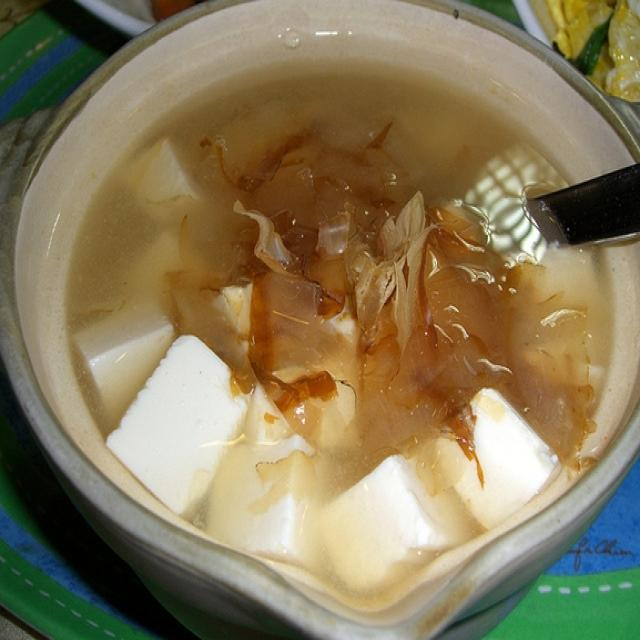豆腐料理: (8, 7, 623, 618)
